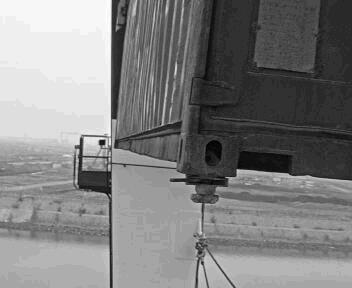twist_lock_1: (178, 170, 234, 209)
